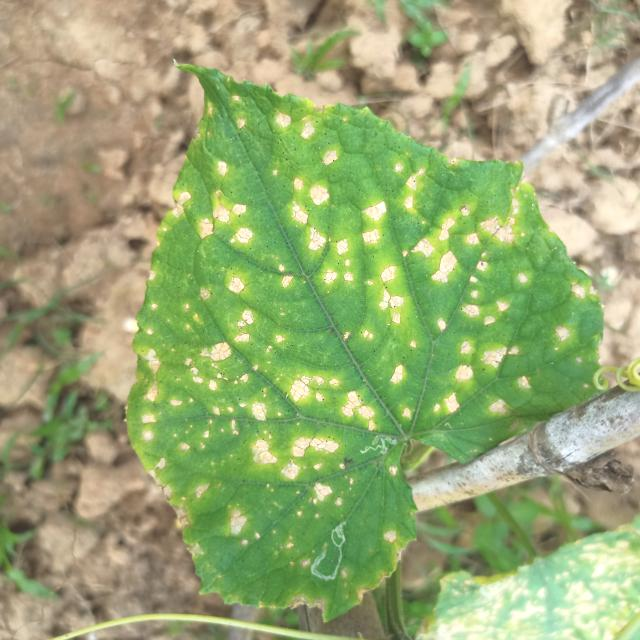disease_cucumber: (142, 103, 540, 566)
